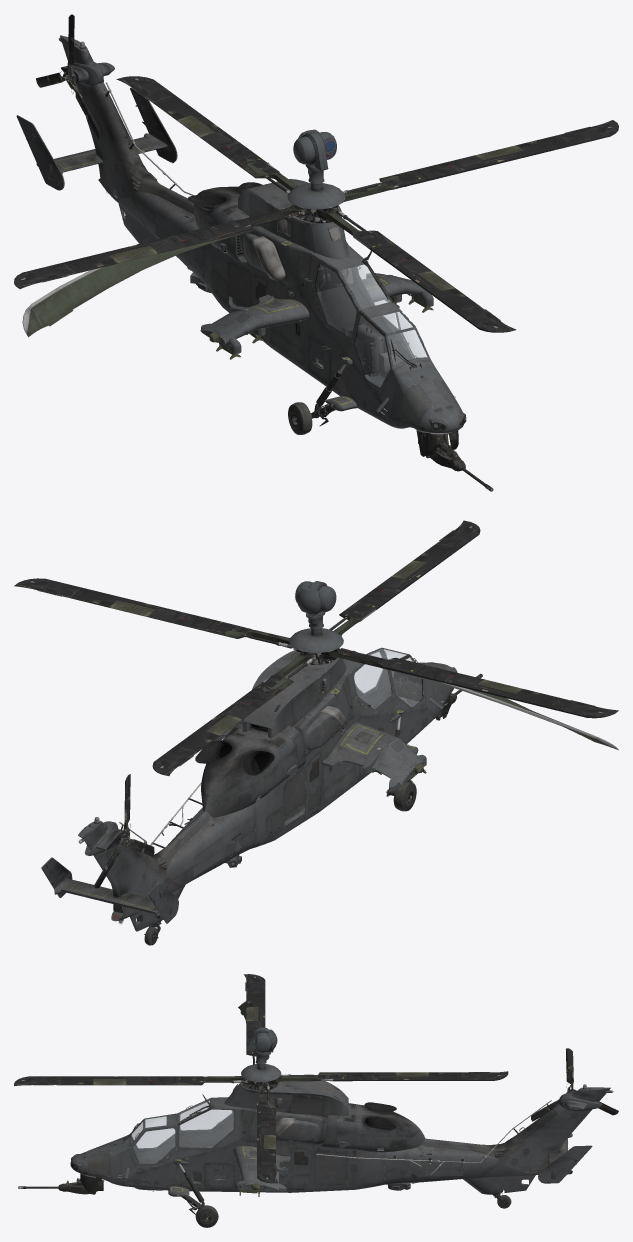
Rendered from VEH_Eurocopter.glb.
3 renders of one model, top to bottom at view 1: azimuth 30°, elevation 25°; view 2: azimuth 150°, elevation 25°; view 3: azimuth 270°, elevation 25°, orthographic. The views are drawn at different scales.
Visible parts, largest first — view 1: ob_veh_helicopter_eurocopter_base_s0, ob_veh_helicopter_eurocopter_base_s1, ob_veh_helicopter_eurocopter_base_s4, ob_veh_helicopter_eurocopter_base_s3, ob_veh_helicopter_eurocopter_base_s5; view 2: ob_veh_helicopter_eurocopter_base_s0, ob_veh_helicopter_eurocopter_base_s1, ob_veh_helicopter_eurocopter_base_s4, ob_veh_helicopter_eurocopter_base_s3, ob_veh_helicopter_eurocopter_base_s5; view 3: ob_veh_helicopter_eurocopter_base_s0, ob_veh_helicopter_eurocopter_base_s1, ob_veh_helicopter_eurocopter_base_s4, ob_veh_helicopter_eurocopter_base_s3, ob_veh_helicopter_eurocopter_base_s5.
Boxes of the visible parts, x1,y1,x2,y2 form: ob_veh_helicopter_eurocopter_base_s0: (178, 179, 493, 491); ob_veh_helicopter_eurocopter_base_s1: (16, 35, 398, 337); ob_veh_helicopter_eurocopter_base_s4: (14, 76, 618, 332); ob_veh_helicopter_eurocopter_base_s3: (315, 264, 427, 386); ob_veh_helicopter_eurocopter_base_s5: (36, 14, 99, 138); ob_veh_helicopter_eurocopter_base_s0: (172, 634, 482, 867); ob_veh_helicopter_eurocopter_base_s1: (41, 581, 618, 945); ob_veh_helicopter_eurocopter_base_s4: (14, 520, 618, 775); ob_veh_helicopter_eurocopter_base_s3: (354, 649, 422, 708); ob_veh_helicopter_eurocopter_base_s5: (94, 774, 154, 888); ob_veh_helicopter_eurocopter_base_s0: (18, 1081, 425, 1227); ob_veh_helicopter_eurocopter_base_s1: (176, 1001, 613, 1208); ob_veh_helicopter_eurocopter_base_s4: (14, 974, 508, 1183); ob_veh_helicopter_eurocopter_base_s3: (131, 1099, 233, 1163); ob_veh_helicopter_eurocopter_base_s5: (531, 1048, 618, 1121).
Size of the model in its own units: 12.86 by 5.12 by 15.73.
8 materials, 6 textured.
